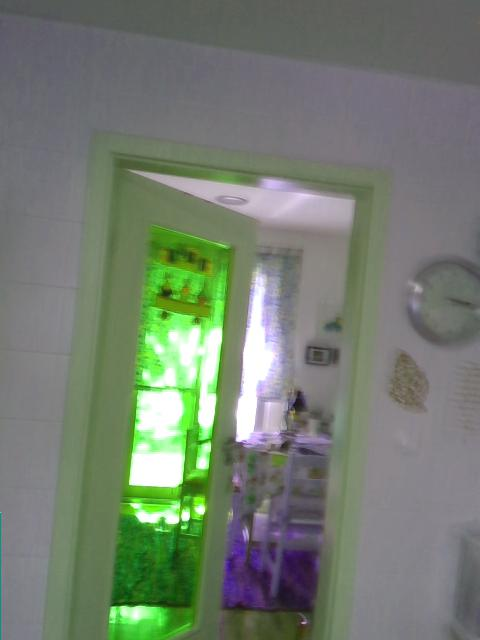semi_door: (41, 124, 394, 639)
